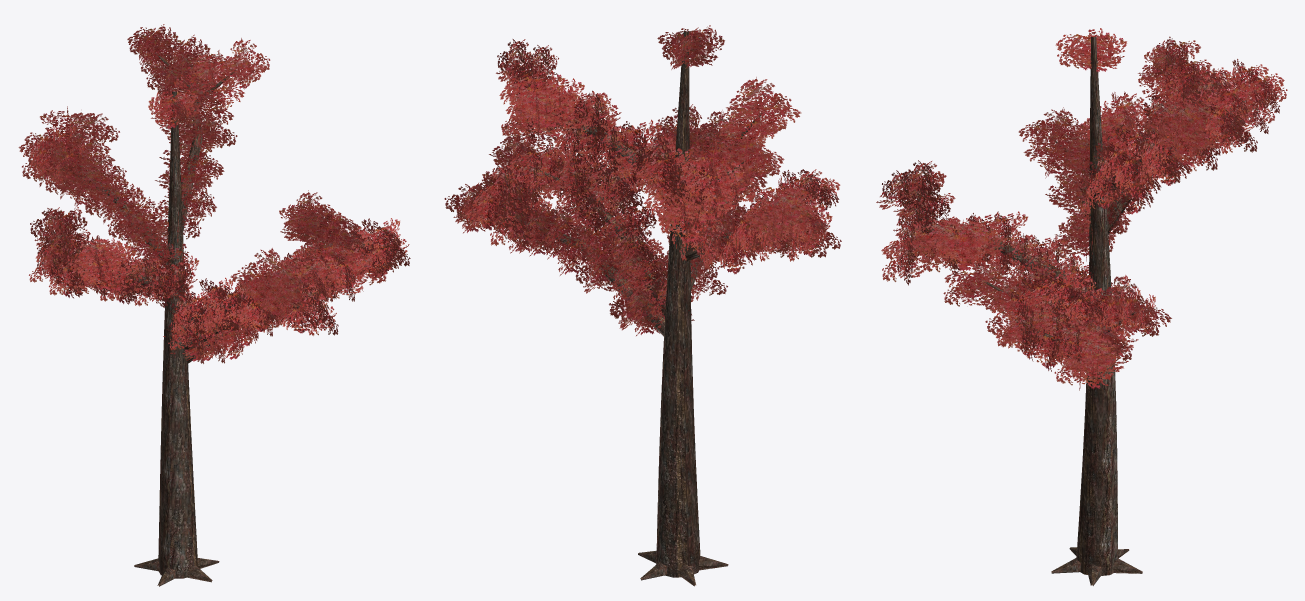
Rendered from tree_3d_01_red_lod0.glb.
3 views of the same model, side by side, from view 1: azimuth 30°, elevation 25°; view 2: azimuth 150°, elevation 25°; view 3: azimuth 270°, elevation 25° (orthographic). The views are drawn at different scales.
Visible parts, largest first — view 1: foliage_cards, wood_geometry; view 2: foliage_cards, wood_geometry; view 3: foliage_cards, wood_geometry.
Part boxes in pixels (x1,y1,x2,y2): foliage_cards: (18, 24, 410, 363); wood_geometry: (56, 53, 388, 586); foliage_cards: (444, 25, 841, 335); wood_geometry: (488, 31, 787, 586); foliage_cards: (876, 28, 1287, 390); wood_geometry: (914, 36, 1249, 585).
Size of the model in its own units: 7.11 by 9.14 by 6.44.
2 materials, 2 textured.
